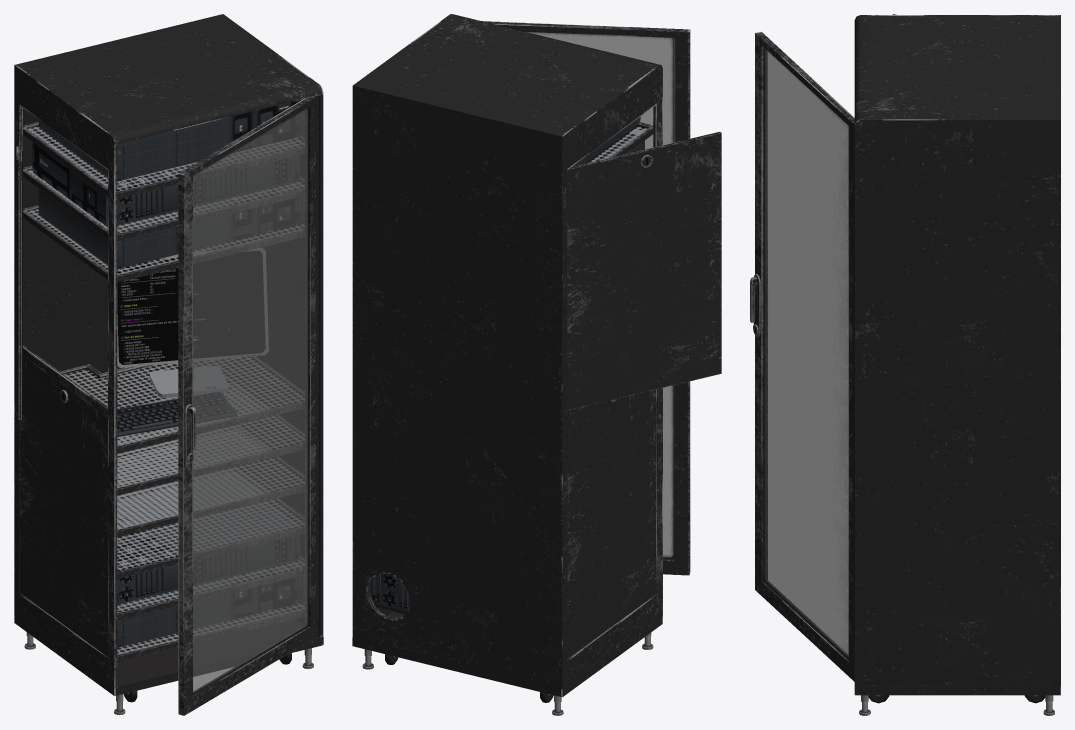
3 views of the same model, side by side, from view 1: azimuth 30°, elevation 25°; view 2: azimuth 150°, elevation 25°; view 3: azimuth 270°, elevation 25° (orthographic). The views are drawn at different scales.
Bounding box in the file's own units: 118 × 228 × 107.
Materials: 5 (5 with a texture image).
